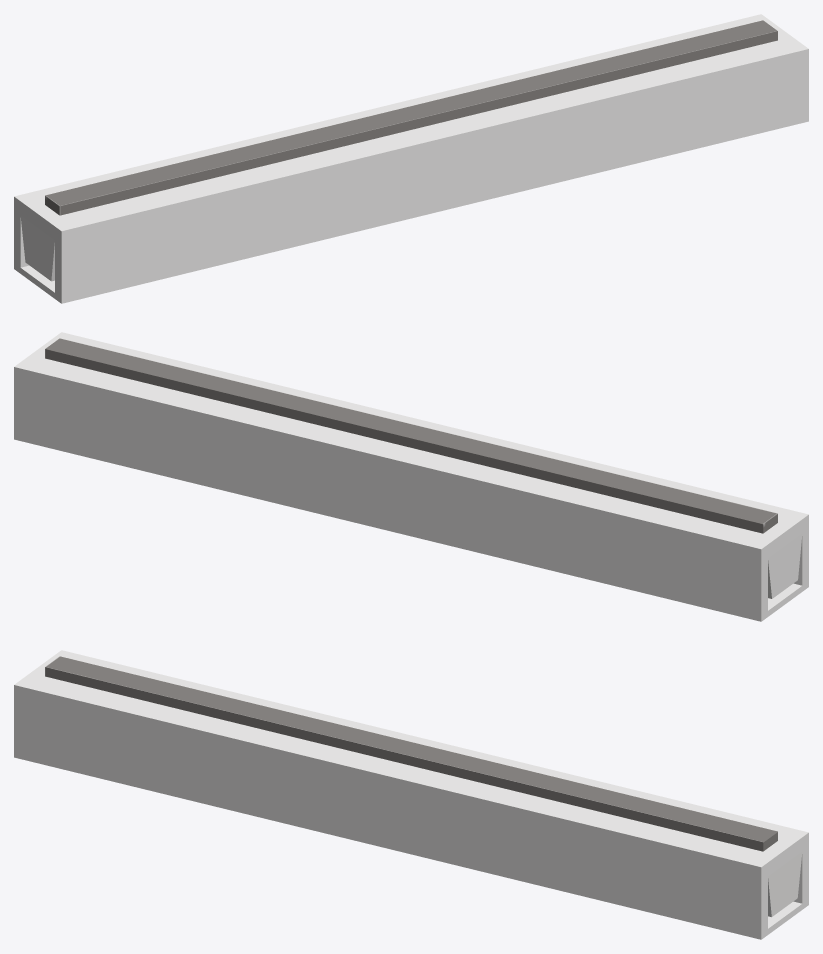
The model's file is bathroom_light.FBX.
3 views of the same model, one above another, from view 1: azimuth 30°, elevation 25°; view 2: azimuth 150°, elevation 25°; view 3: azimuth 330°, elevation 25° (orthographic).
Parts seen in each view (by area): view 1: bathroom_light; view 2: bathroom_light; view 3: bathroom_light.
Boxes of the visible parts, x1,y1,x2,y2 form: bathroom_light: (14, 14, 808, 303); bathroom_light: (14, 332, 808, 621); bathroom_light: (14, 650, 808, 939).
Size of the model in its own units: 57.41 by 6.02 by 6.33.
Materials: 1 (1 with a texture image).
